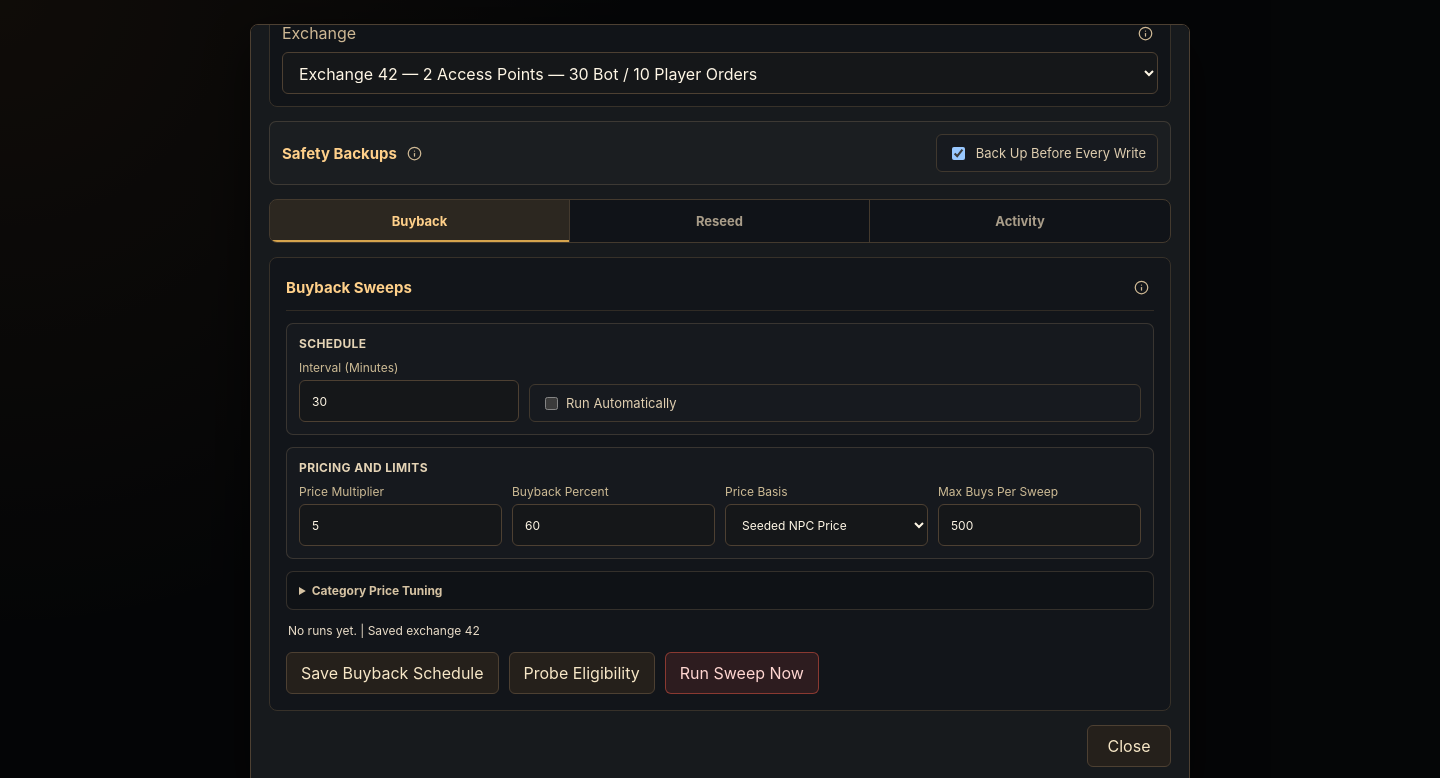
Test: MarketBotOverlay › confirms before running a sweep and reports the result
(page scrolled)
Click the button "Run Sweep Now": (742, 673) [665,652,819,694]
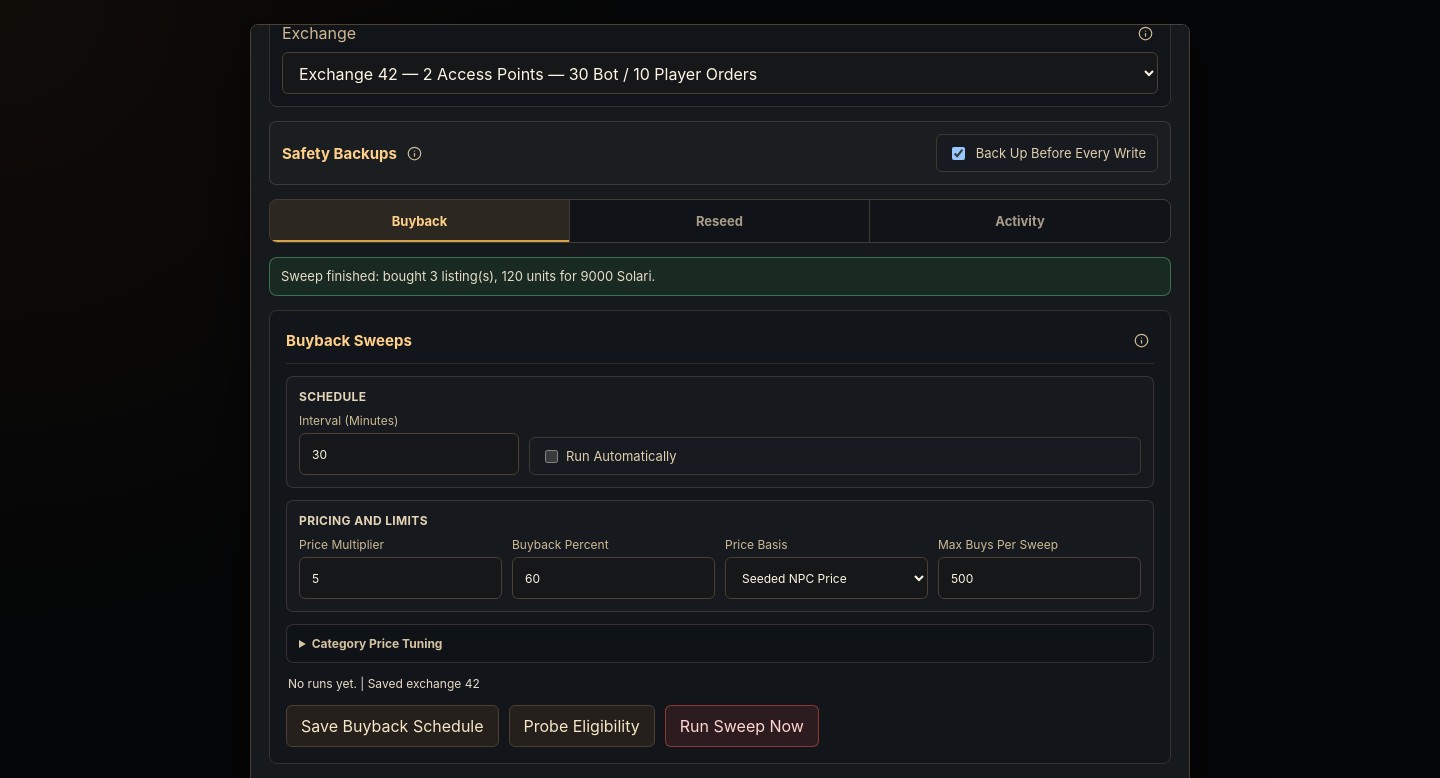
Expected: the text "Sweep finished: bought 3 listing(s), 120 units for 9000 Solari." is shown, [269,257,1171,296]
